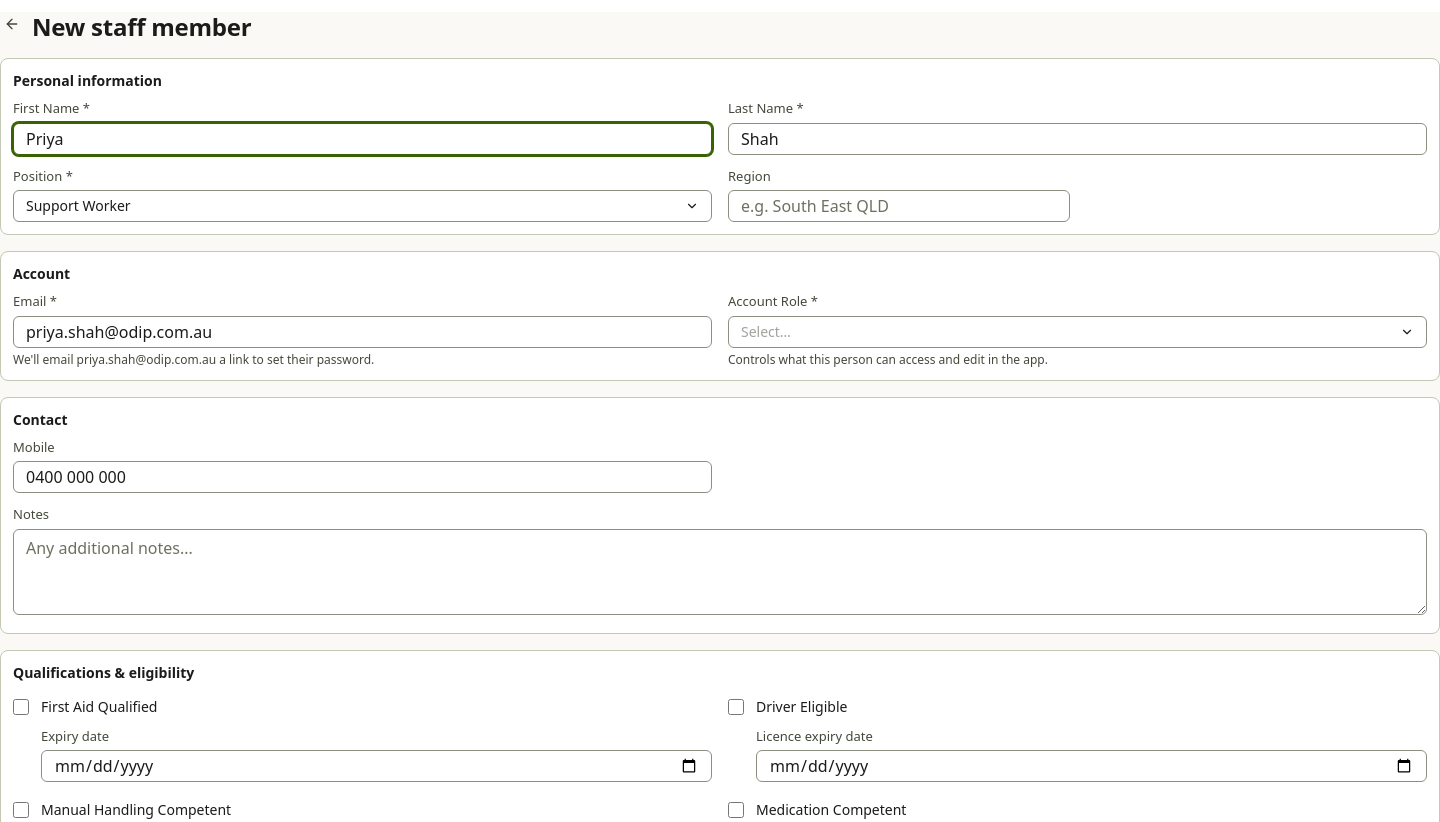
Test: StaffCreatePage account-role options (create mode) › hides Admin and SuperAdmin from a Coordinator's options
The width and height of the screenshot is (1440, 822).
Click the button "Select…". click: [766, 331]
box: [728,316,1427,348]
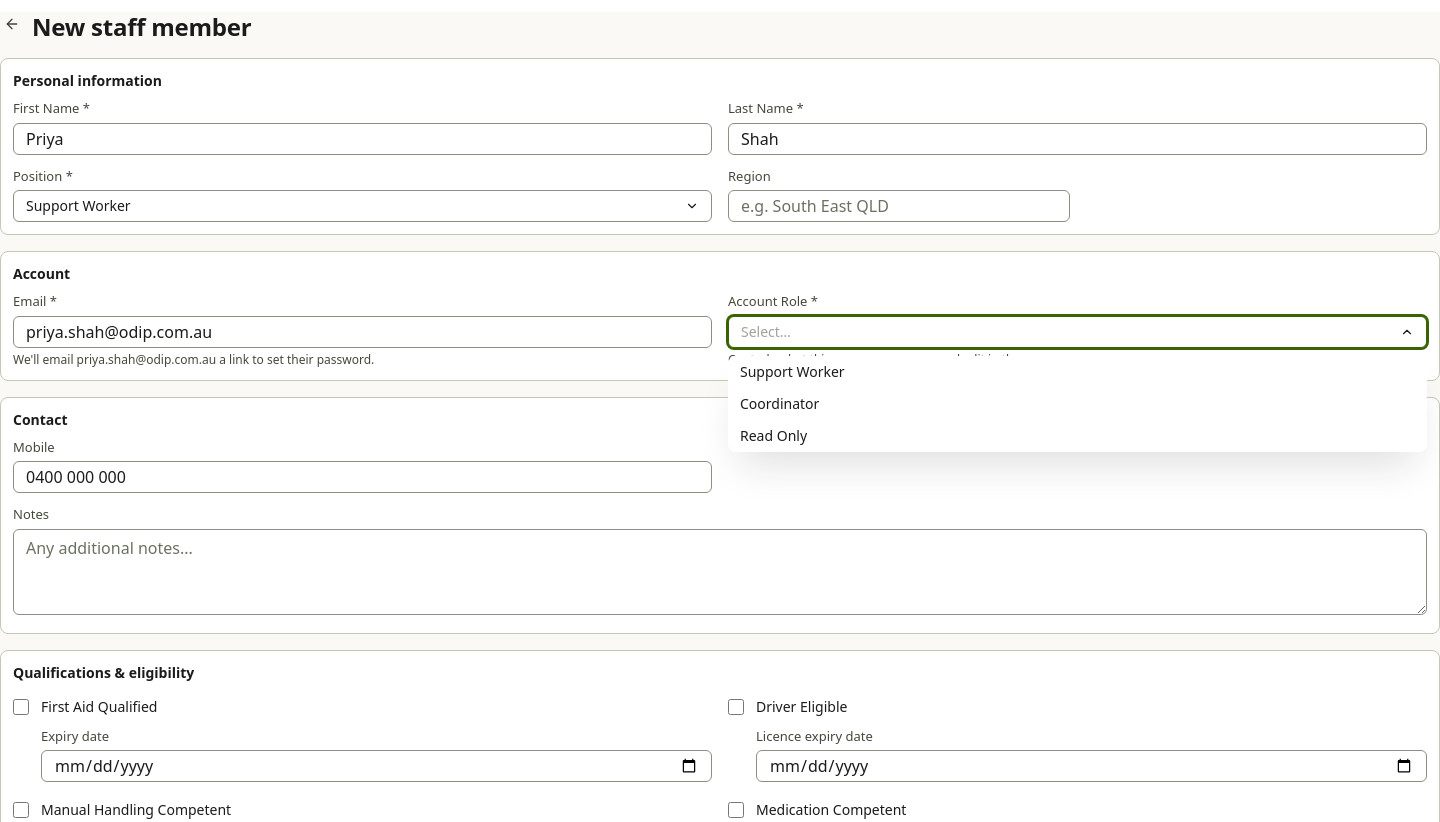
Expected: the text "Support Worker" below "Position" is shown, [26,196,131,215]
Now the text "Coordinator" is shown, box [740,394,819,414]
Now the text "Read Only" is shown, box [740,426,807,446]
